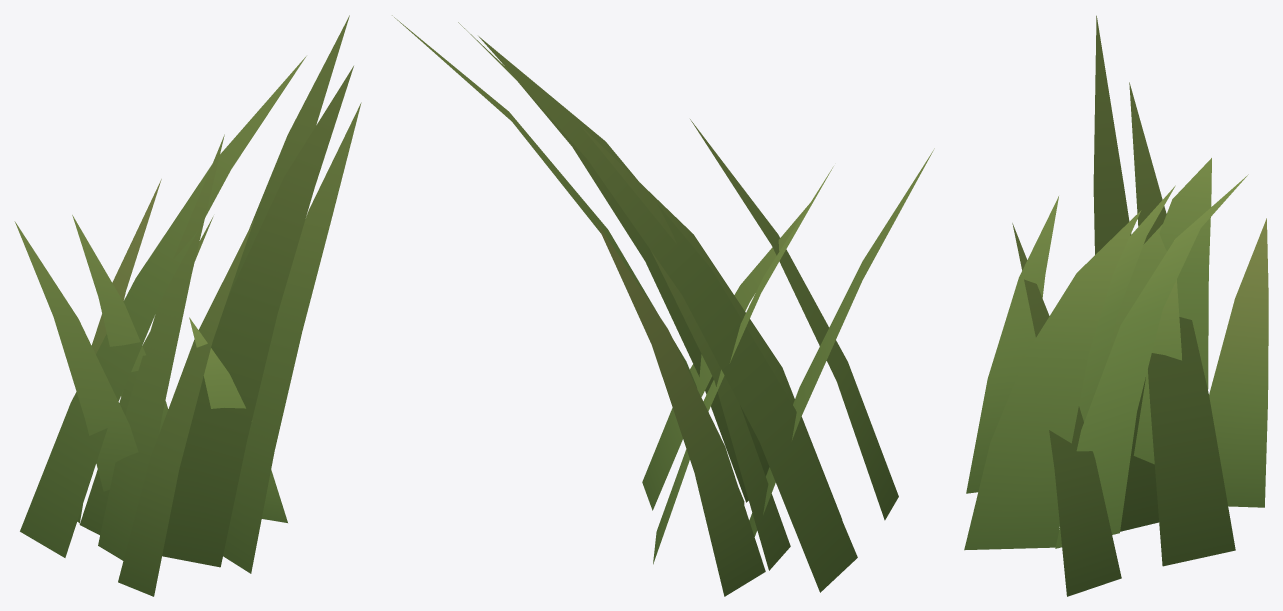
The model's file is grass_short_B.glb.
3 views of the same model, side by side, from view 1: azimuth 30°, elevation 25°; view 2: azimuth 150°, elevation 25°; view 3: azimuth 270°, elevation 25° (orthographic). The views are drawn at different scales.
Visible parts, largest first — view 1: grass_short_B; view 2: grass_short_B; view 3: grass_short_B.
Part boxes in pixels (bbox=[...]): grass_short_B: bbox=[14, 15, 361, 596]; grass_short_B: bbox=[392, 15, 934, 596]; grass_short_B: bbox=[964, 15, 1268, 596].
Bounding box in the file's own units: 0.2977 × 0.2989 × 0.1637.
